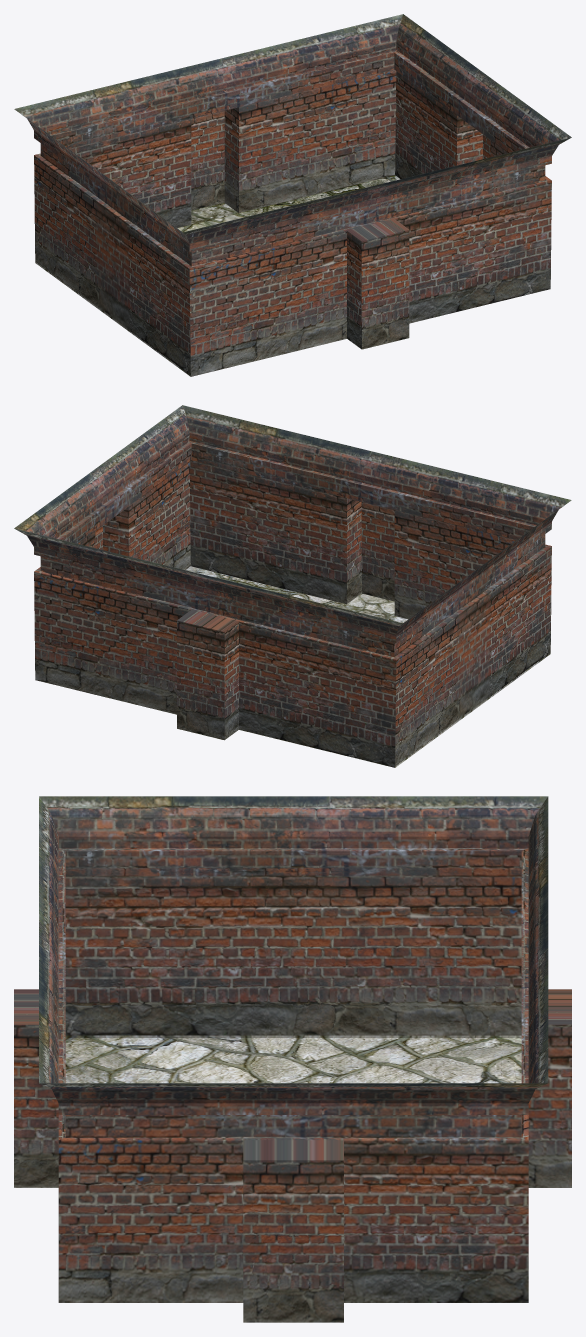
Rendered from RoomLeftTopBottomDoor.fbx.
3 renders of one model, top to bottom at view 1: azimuth 30°, elevation 25°; view 2: azimuth 150°, elevation 25°; view 3: azimuth 270°, elevation 25°, orthographic. The views are drawn at different scales.
Visible parts, largest first — view 1: RoomLeftTopBottomDoor; view 2: RoomLeftTopBottomDoor; view 3: RoomLeftTopBottomDoor.
Boxes of the visible parts, bbox=[...] form: RoomLeftTopBottomDoor: bbox=[14, 14, 571, 376]; RoomLeftTopBottomDoor: bbox=[14, 405, 571, 767]; RoomLeftTopBottomDoor: bbox=[14, 796, 571, 1322].
Size of the model in its own units: 826 by 301 by 657.
